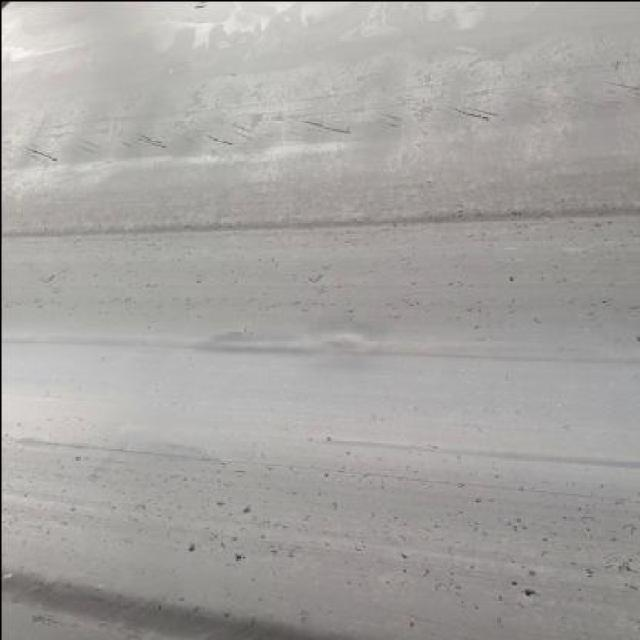Impact Damage: (296, 328, 383, 370)
Puncture: (518, 586, 542, 603), (182, 541, 201, 556), (231, 550, 250, 565), (241, 501, 255, 517)
Tear: (423, 73, 511, 126), (123, 105, 196, 162), (200, 110, 272, 162), (284, 102, 368, 146)
